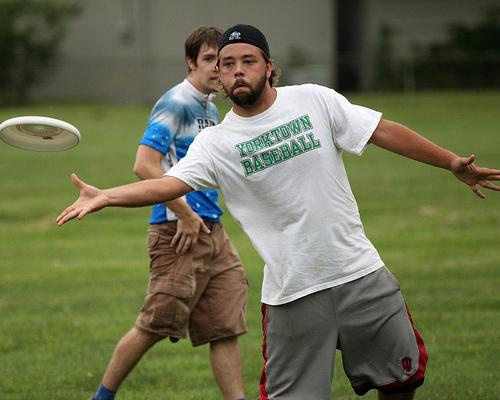person: (56, 23, 500, 400)
